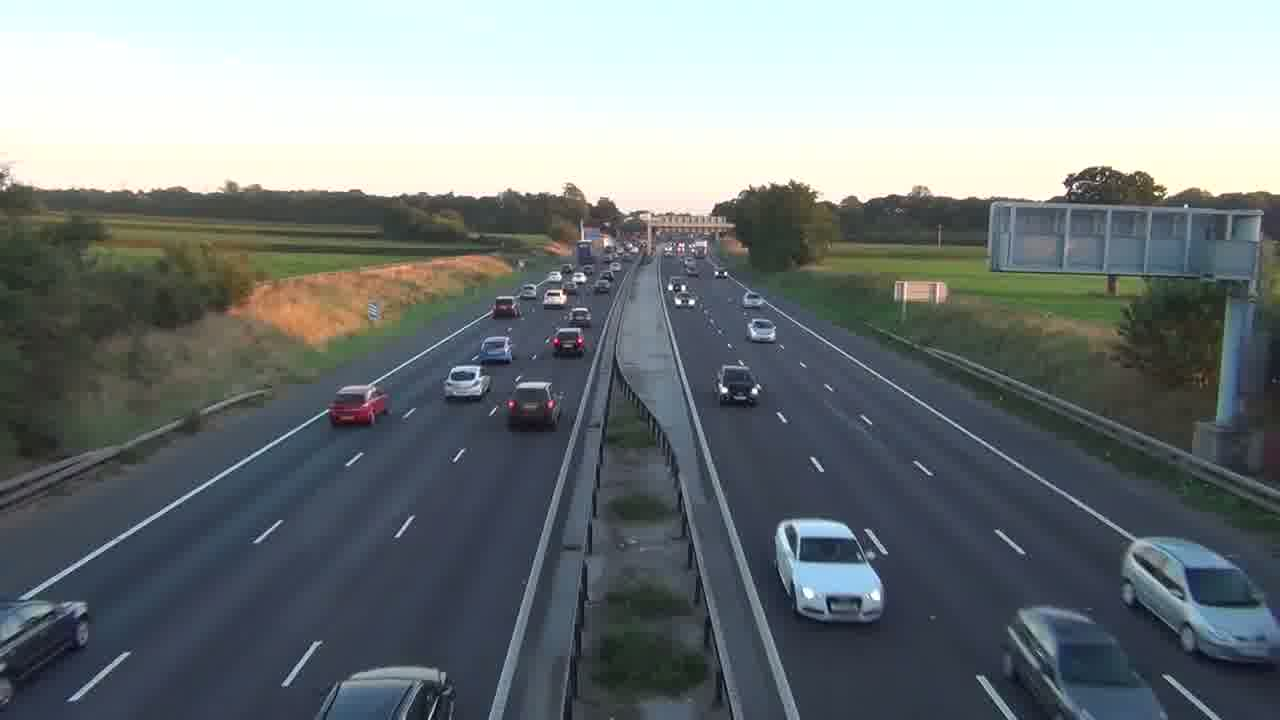car: (1119, 535, 1279, 667), (1001, 605, 1168, 719), (772, 516, 887, 625), (0, 593, 94, 686), (314, 665, 457, 719), (505, 379, 562, 430), (329, 383, 391, 427), (715, 361, 762, 407), (442, 364, 491, 401), (552, 327, 586, 359), (476, 336, 514, 364), (746, 317, 776, 342)
